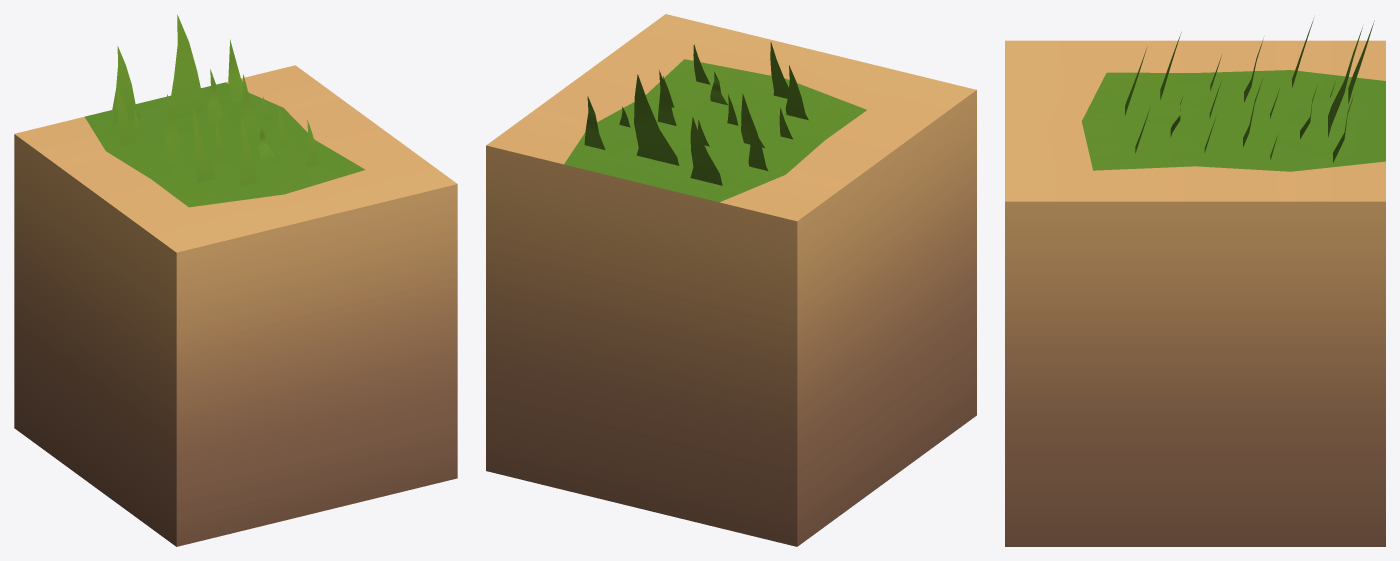
The model's file is threesidec l tile.fbx.
3 views of the same model, side by side, from view 1: azimuth 30°, elevation 25°; view 2: azimuth 150°, elevation 25°; view 3: azimuth 270°, elevation 25° (orthographic). The views are drawn at different scales.
Parts seen in each view (by area): view 1: thsidec_l_tile, thsidec_l_grass; view 2: thsidec_l_tile, thsidec_l_grass; view 3: thsidec_l_tile, thsidec_l_grass.
Part boxes in pixels (x1=…): thsidec_l_tile: x1=14, y1=65, x2=457, y2=546; thsidec_l_grass: x1=112, y1=14, x2=318, y2=187; thsidec_l_tile: x1=486, y1=14, x2=976, y2=546; thsidec_l_grass: x1=584, y1=42, x2=808, y2=185; thsidec_l_tile: x1=1005, y1=40, x2=1385, y2=546; thsidec_l_grass: x1=1125, y1=18, x2=1374, y2=162.
Bounding box in the file's own units: 10 × 13.03 × 10.
